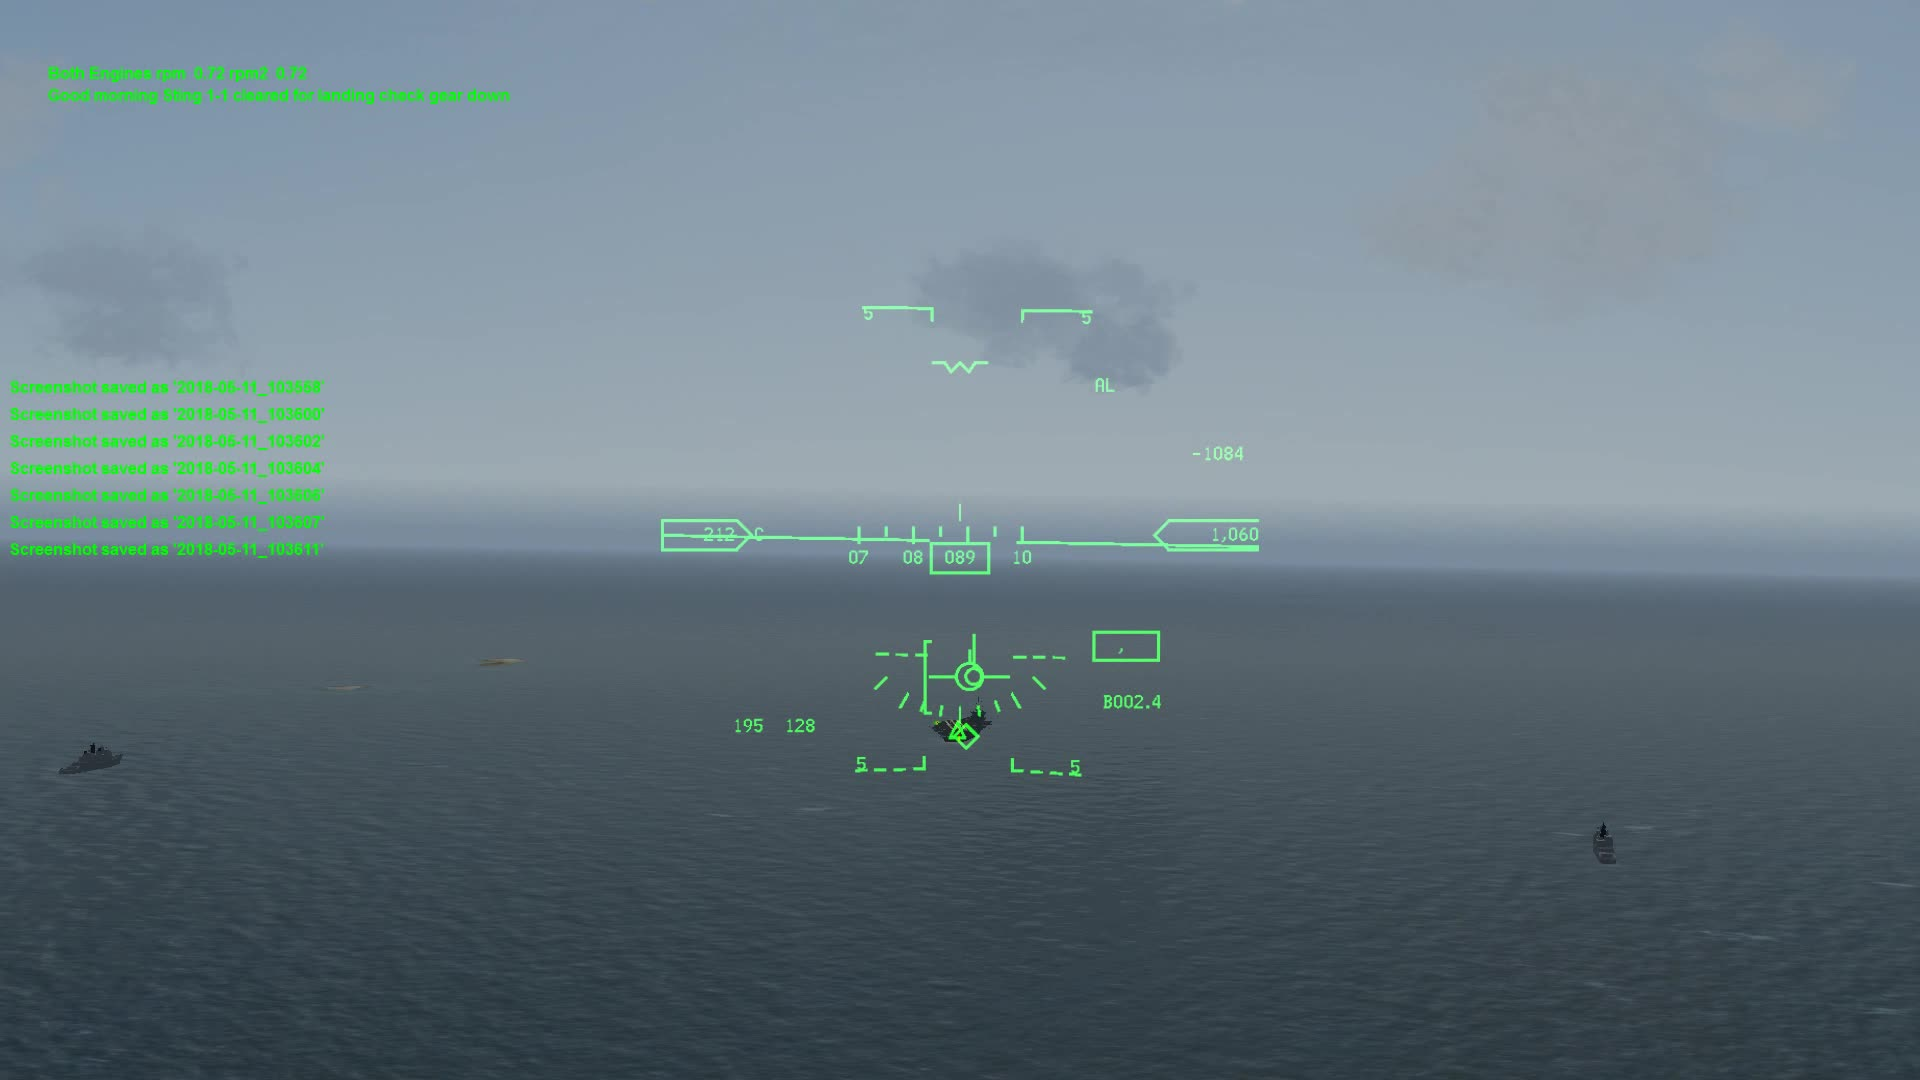speed vector: (932, 636, 1017, 694)
